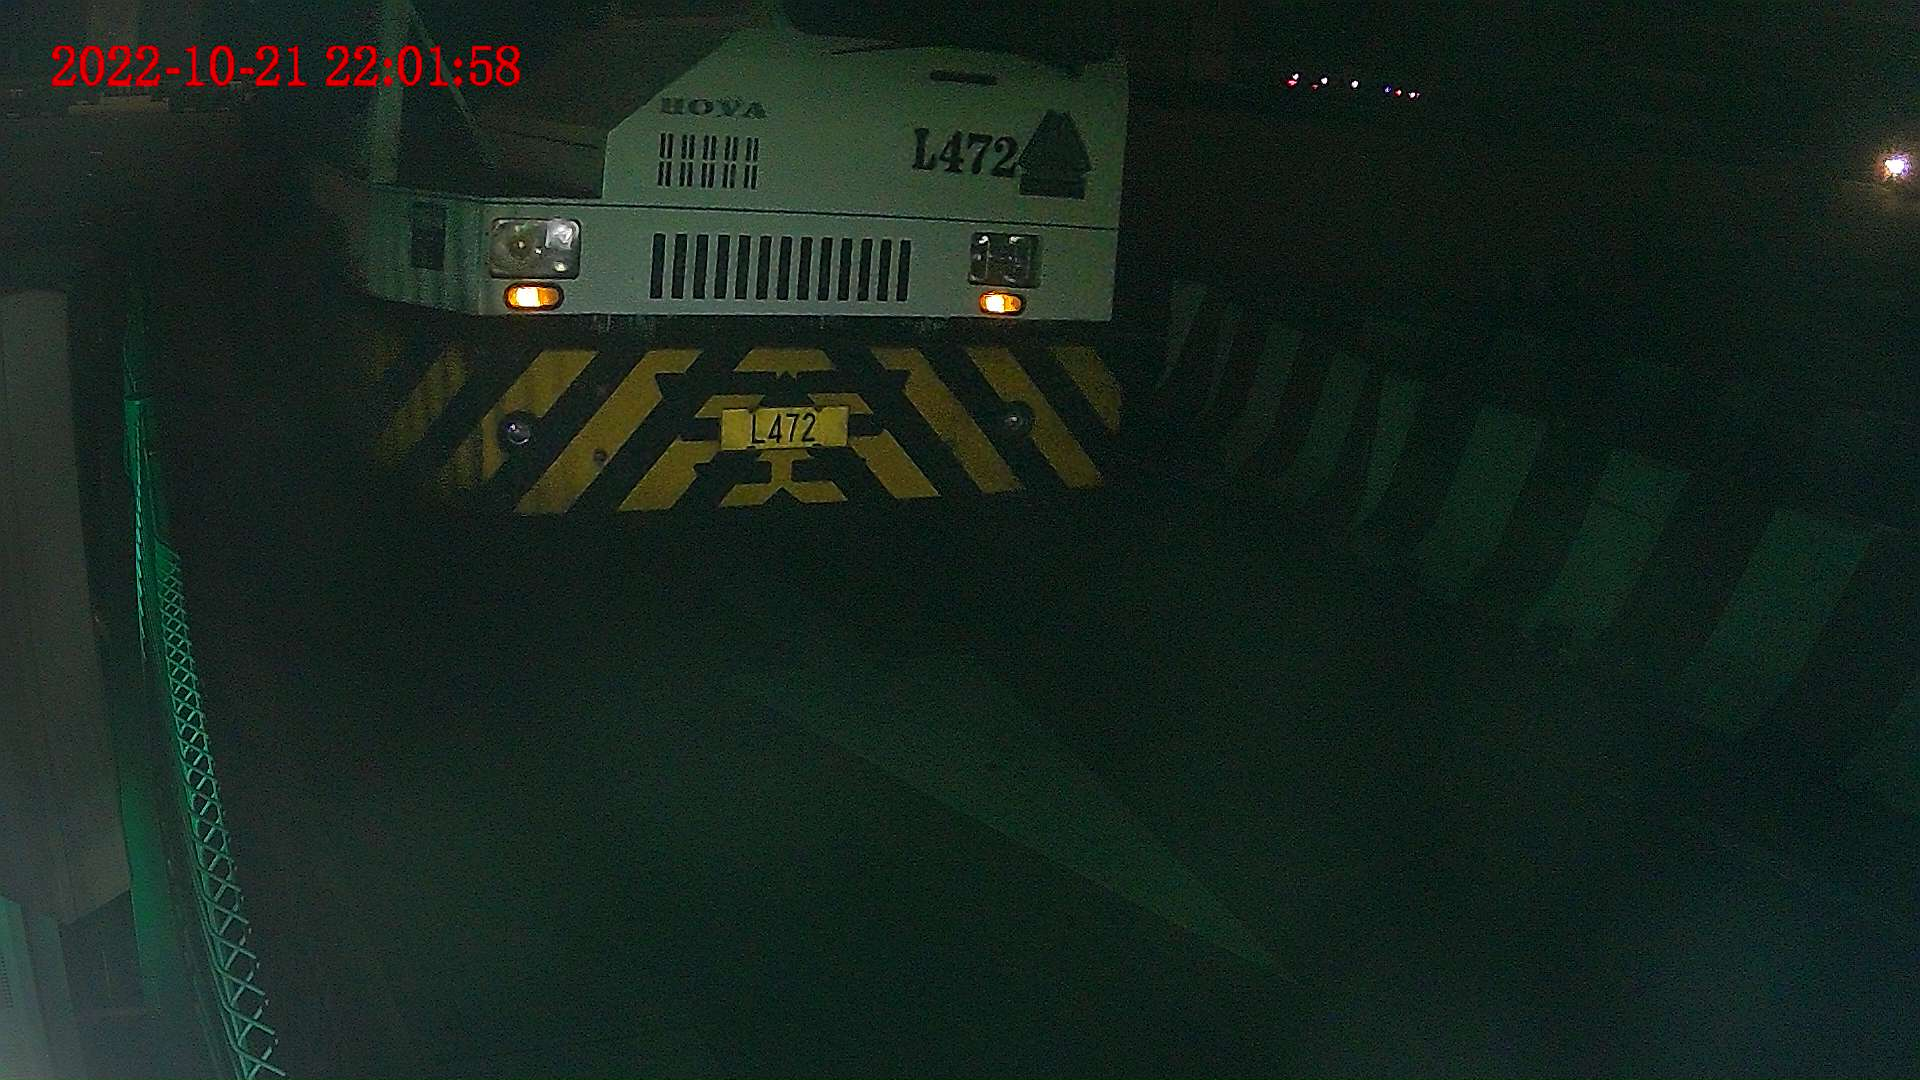head: (316, 1, 1137, 539)
plate: (721, 409, 847, 448)
